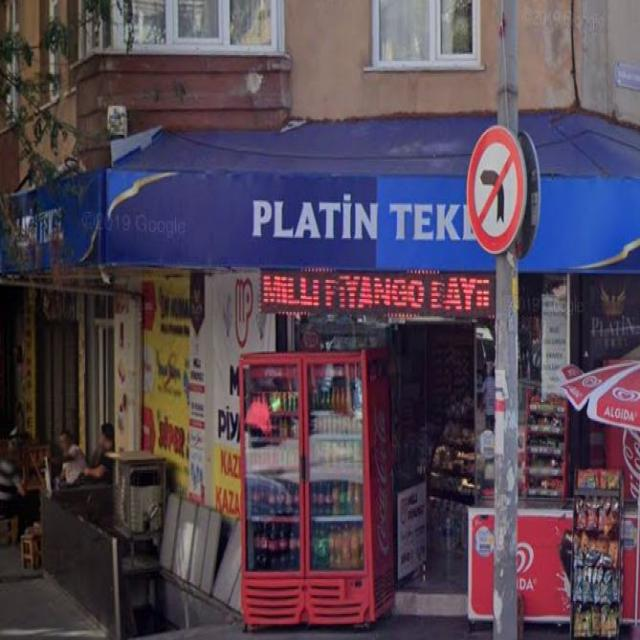soladonulmez: (467, 126, 524, 253)
